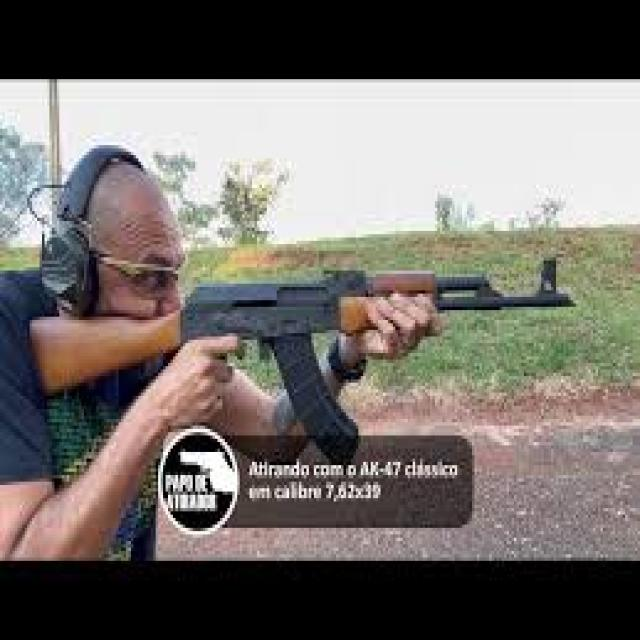AK-47 Gun: (31, 248, 581, 462)
